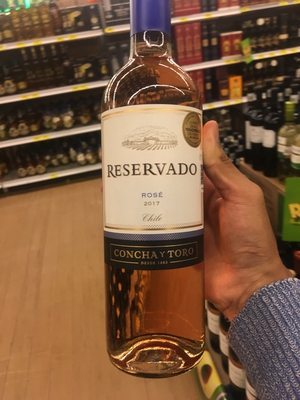reservado rose: (94, 5, 214, 365)
